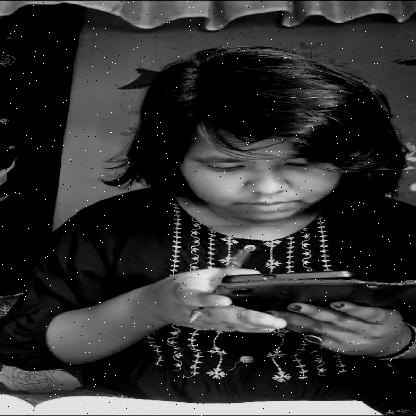Normal: (148, 90, 374, 225)
